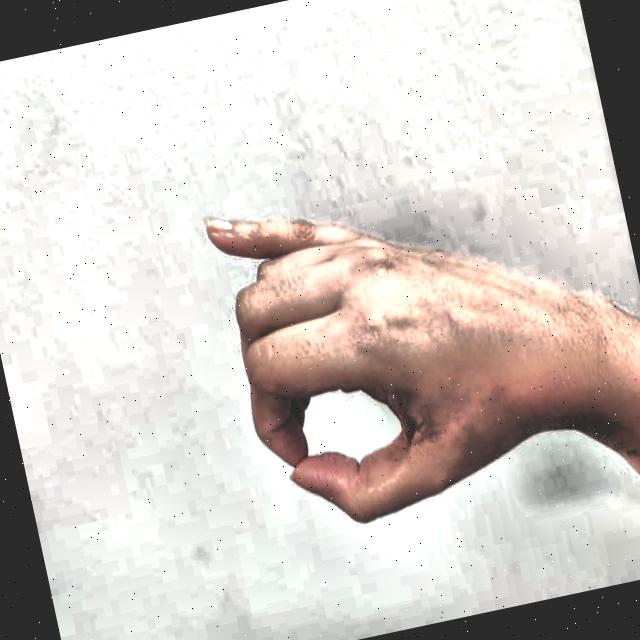Ou: (184, 136, 596, 574)
